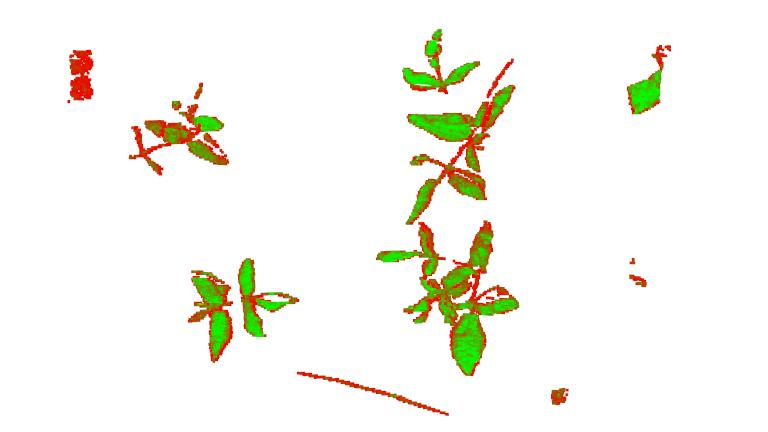mungbean: (394, 28, 514, 223), (383, 223, 523, 381), (187, 256, 301, 362), (128, 85, 231, 177)
